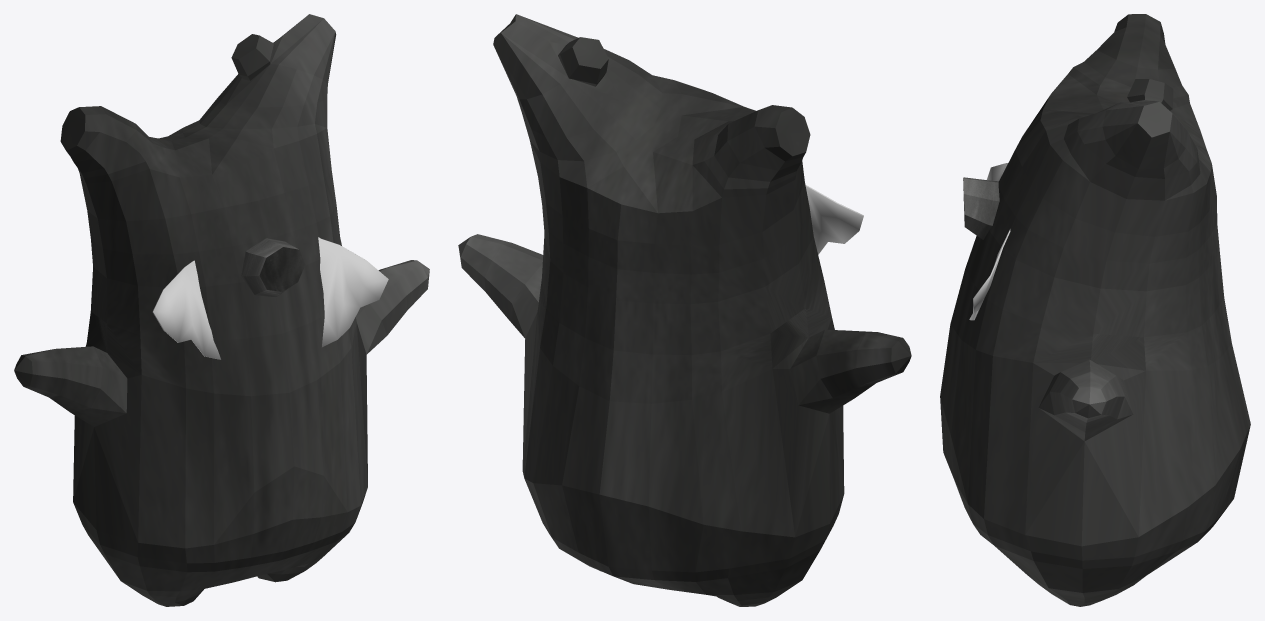
The model's file is frame_0031.obj.
The picture shows the model from 3 angles, left to right: view 1: azimuth 30°, elevation 25°; view 2: azimuth 150°, elevation 25°; view 3: azimuth 270°, elevation 25°; orthographic projection. The views are drawn at different scales.
Visible parts, largest first — view 1: korok, leaf, nose; view 2: korok, leaf; view 3: korok, nose, leaf.
Boxes of the visible parts, <box> form: korok: <box>14,14,429,606</box>; leaf: <box>152,237,388,359</box>; nose: <box>241,238,305,296</box>; korok: <box>458,14,911,606</box>; leaf: <box>805,184,863,254</box>; korok: <box>940,14,1250,606</box>; nose: <box>963,177,999,239</box>; leaf: <box>969,163,1010,320</box>.
Bounding box in the file's own units: 1.86 × 2.22 × 1.17.
